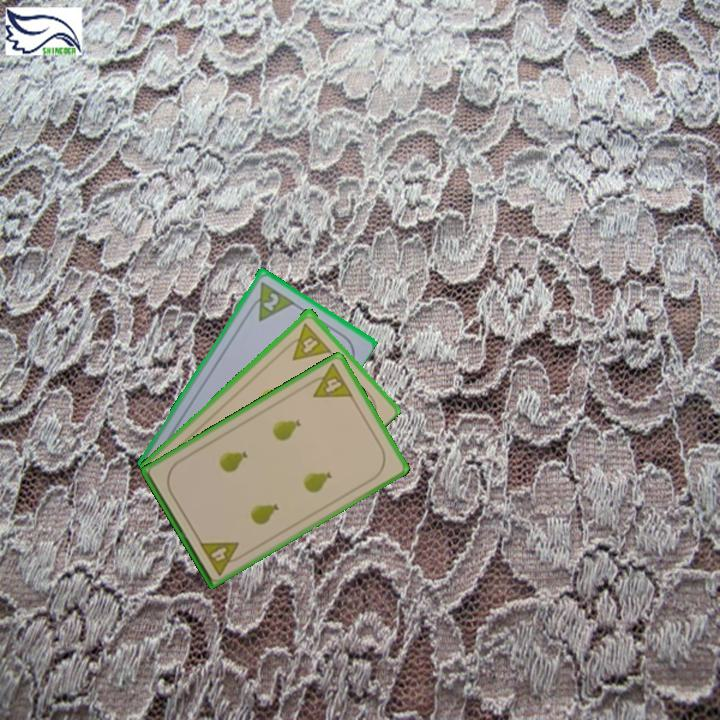2p: (259, 288, 282, 313)
4p: (281, 319, 333, 363), (303, 360, 356, 400), (196, 537, 247, 578)
